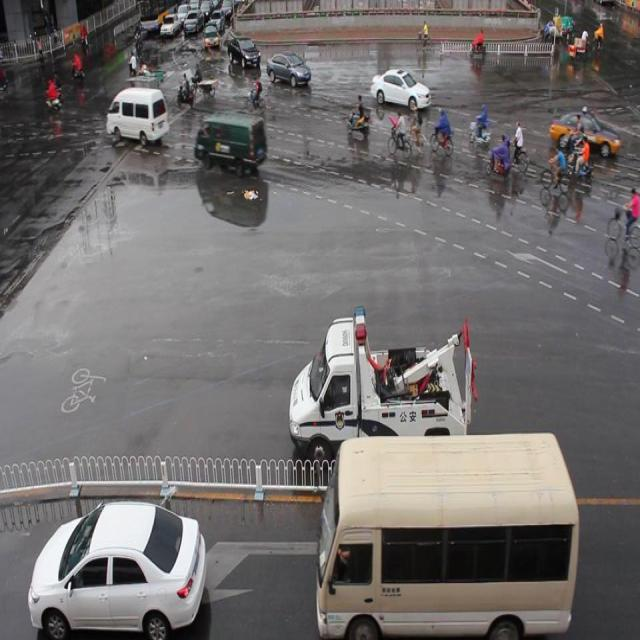bus: (288, 303, 475, 466)
car: (28, 500, 207, 640), (549, 106, 618, 156), (369, 62, 430, 112), (265, 48, 311, 86), (226, 33, 262, 70)
truck: (315, 431, 577, 640), (193, 114, 269, 175), (107, 84, 169, 148)
